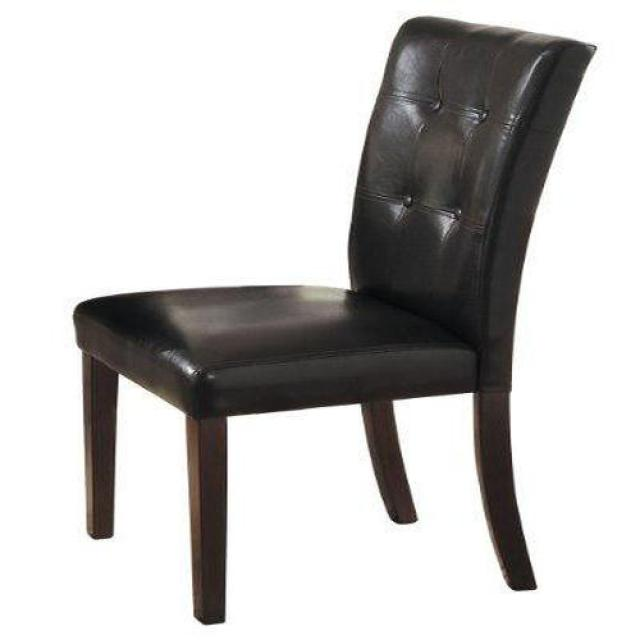chair: (72, 18, 596, 627)
